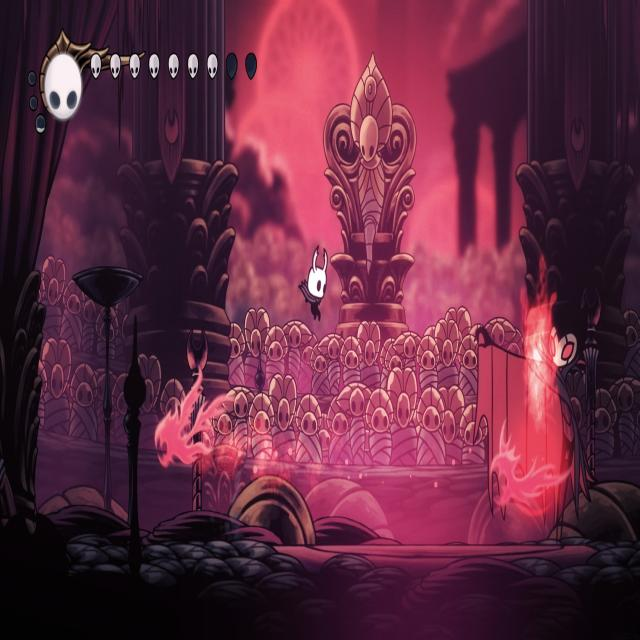Fire Bat: (154, 374, 236, 471), (488, 419, 572, 511)
Open Cloak: (472, 304, 603, 548)
Player: (298, 239, 332, 324)
